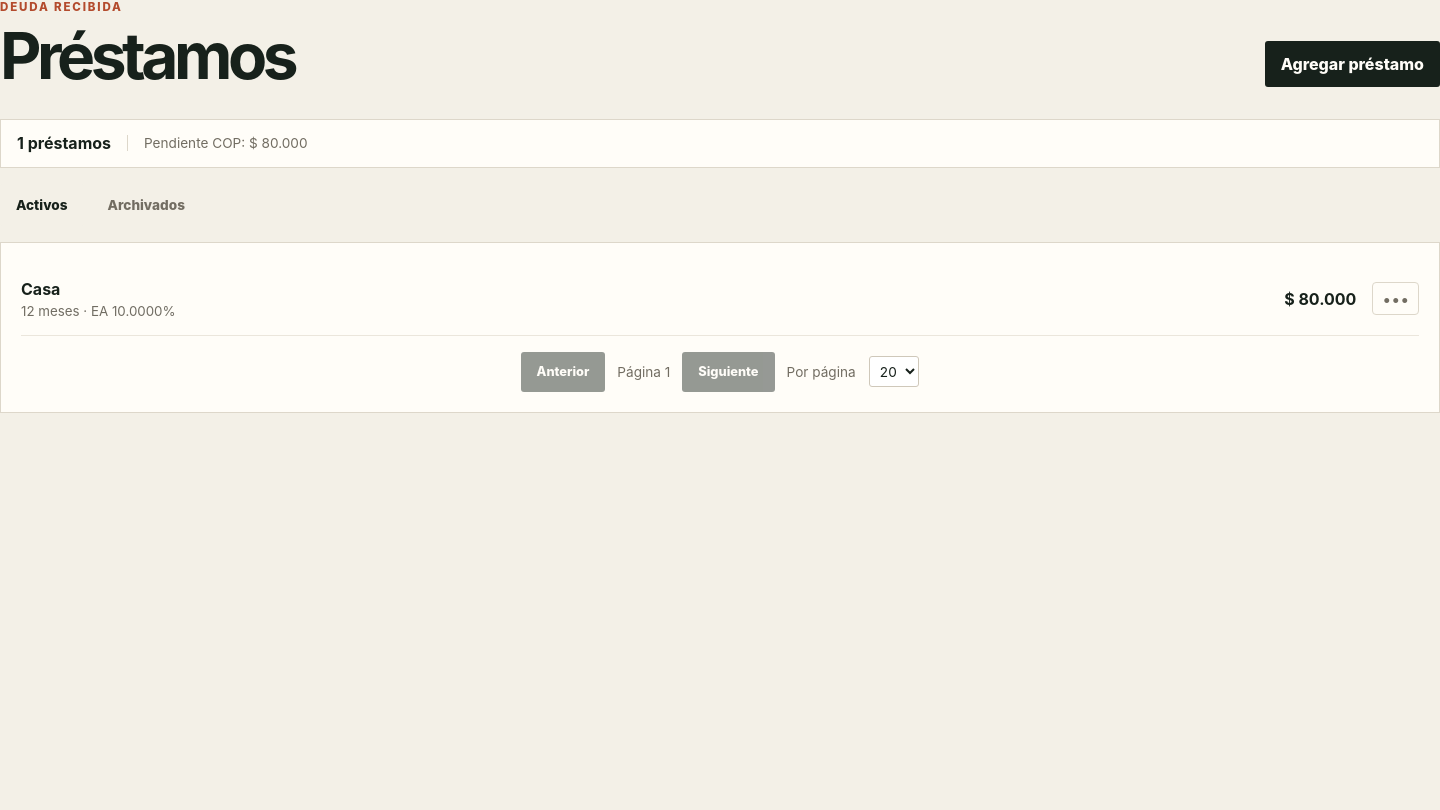
Test: loan closing › keeps the confirmation open and shows a failed close request
Expected: the text "Casa" is shown, [21,279,60,299]
Click the heading named "Acciones" at (1396, 299), box [1372,282,1419,315]
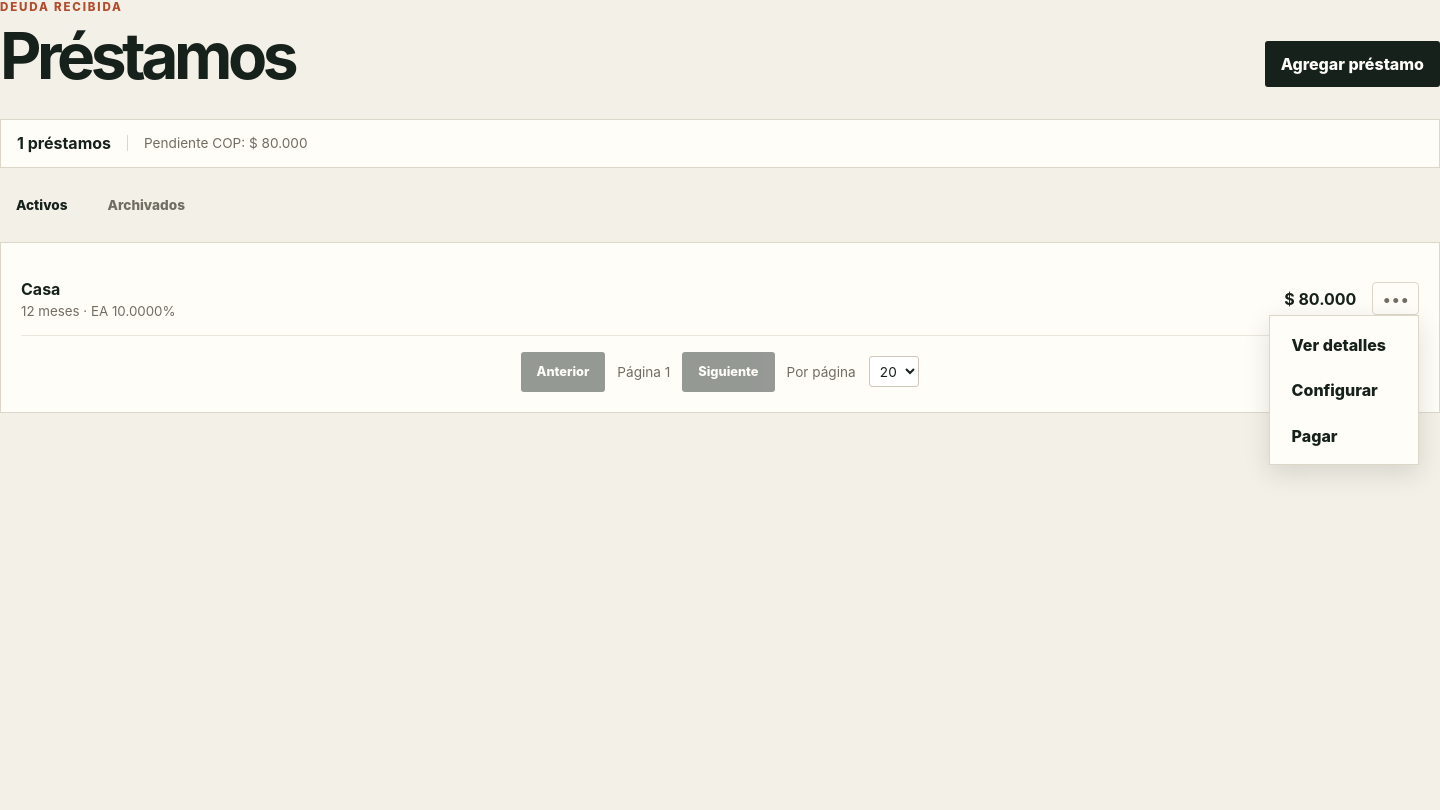
Click the button "Configurar" at (1344, 390), box [1276,367,1412,413]
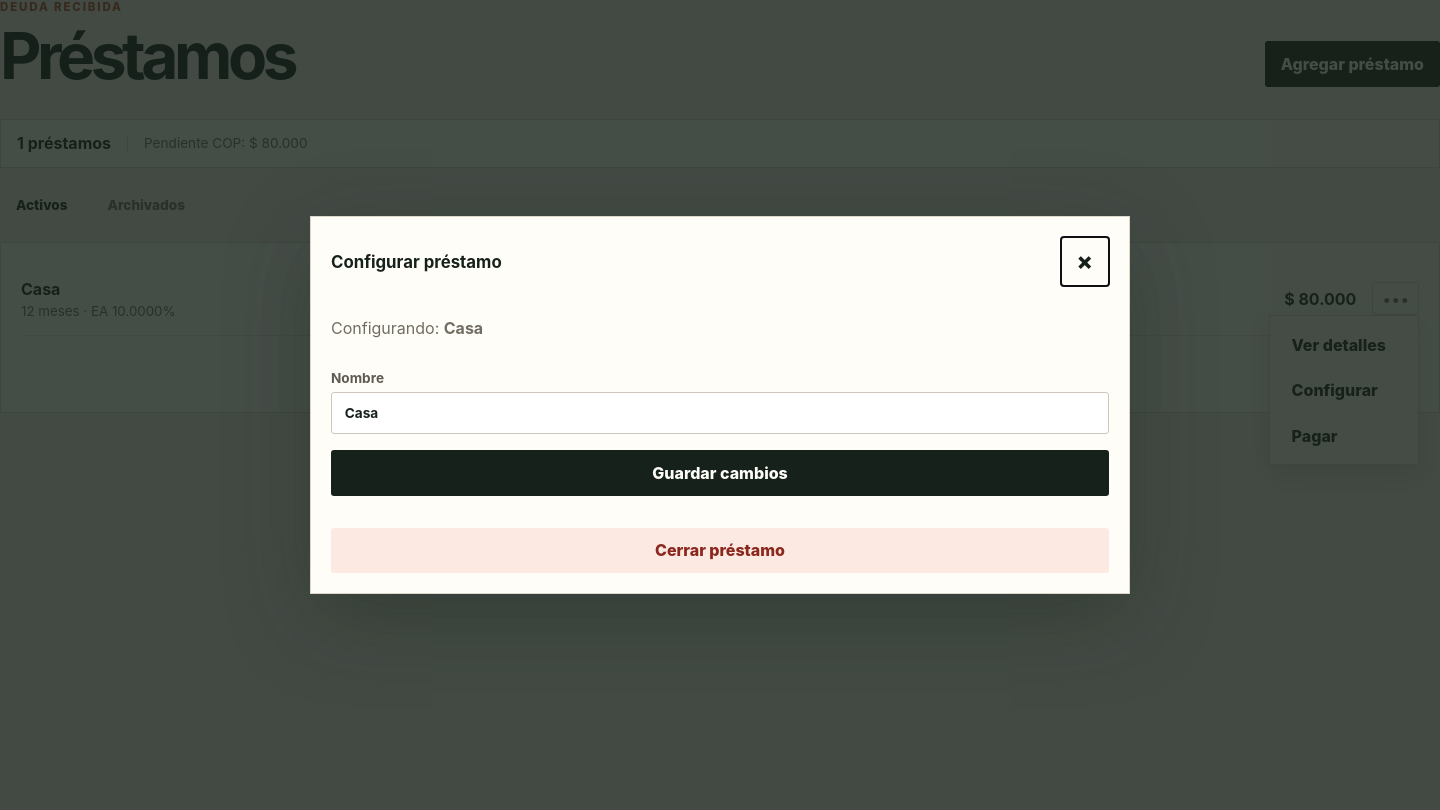
Expected: the field labelled "Nombre" is shown, [331,392,1109,434]
Click the button "Cerrar préstamo" at (720, 550), box [331,528,1109,573]
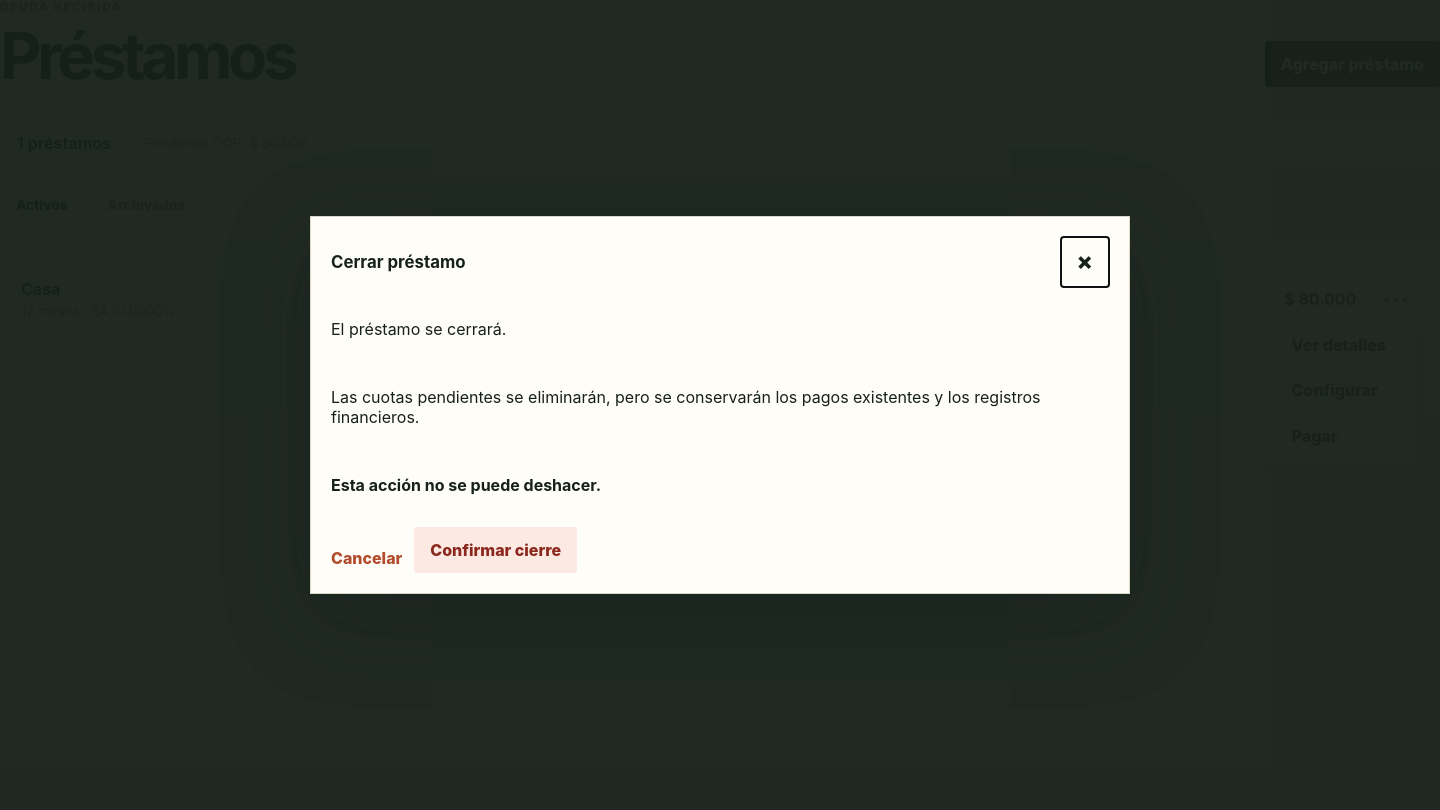
Click the button "Confirmar cierre" at (496, 550), box [414,527,577,573]
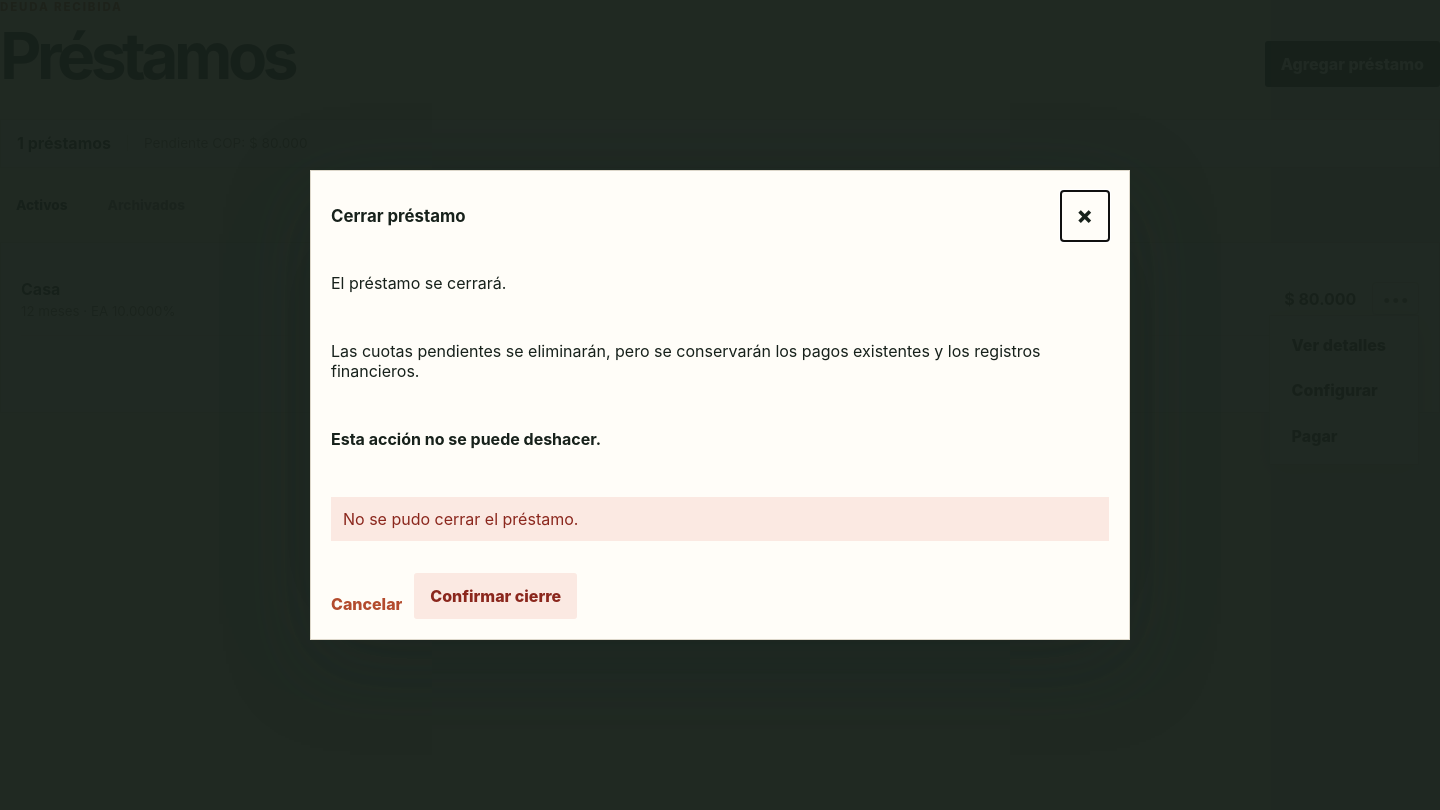
Expected: the dialog "Cerrar préstamo" is shown, [310,170,1130,640]
Expected: the text "No se pudo cerrar el préstamo." is shown, [331,497,1109,541]
